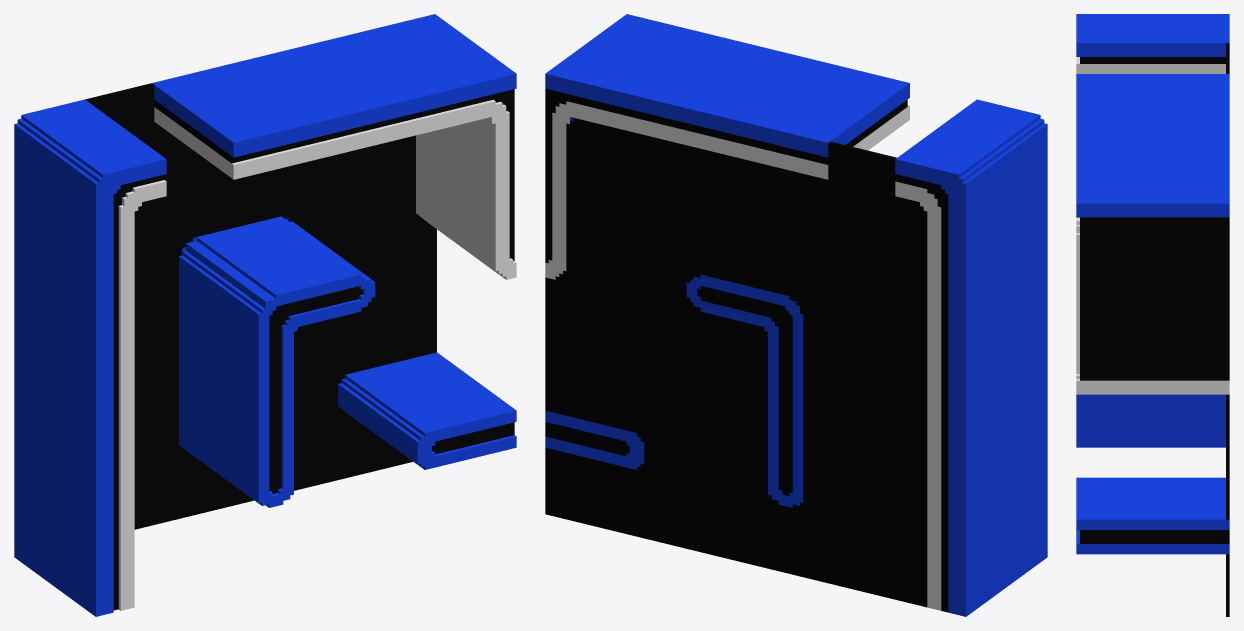
File: Pac1-2.obj
3 renders of one model, left to right at view 1: azimuth 30°, elevation 25°; view 2: azimuth 150°, elevation 25°; view 3: azimuth 270°, elevation 25°, orthographic. The views are drawn at different scales.
Size of the model in its own units: 11.9 by 11.9 by 4.
1 material, 1 textured.
